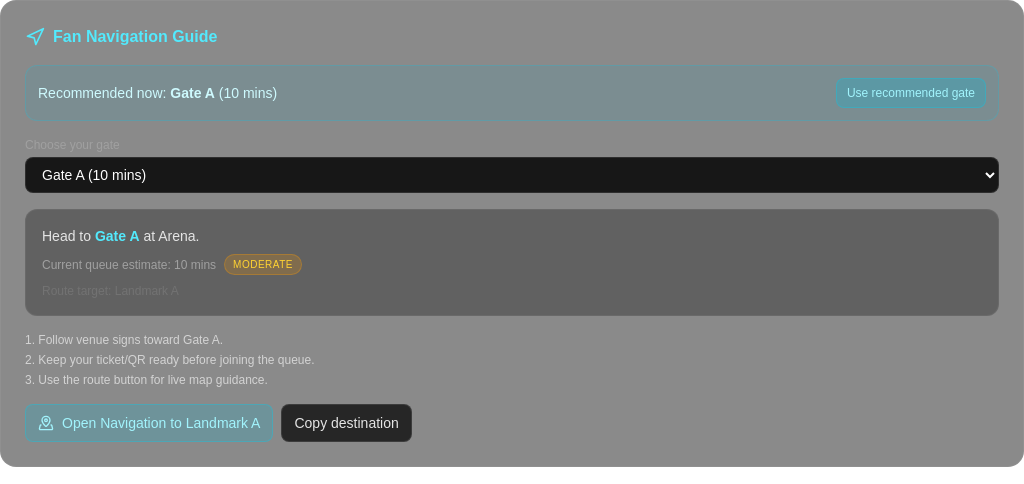
Scenario: FanGateGuide › copies destination text for quick sharing
This screenshot has width=1024, height=484.
Click the button "Copy destination".
click(347, 423)  # box [282,404,412,442]
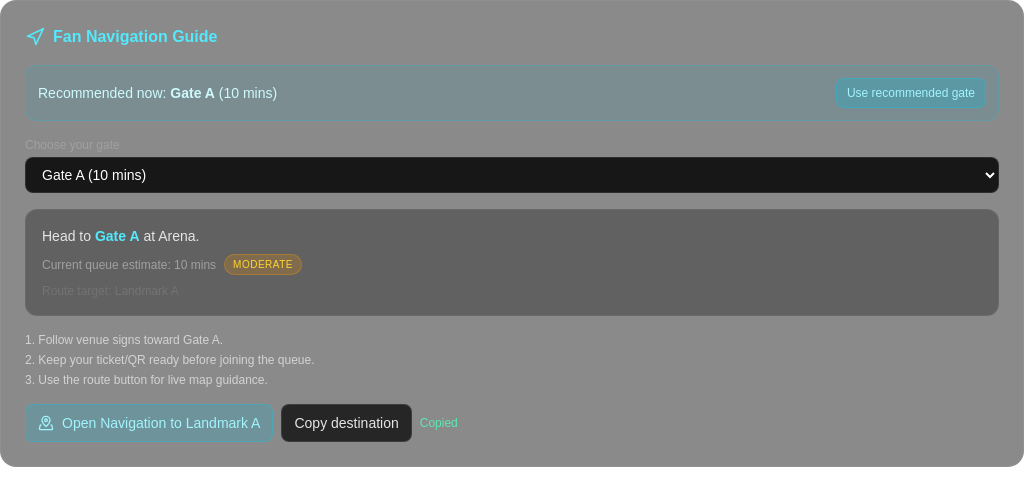
Check: the text "Copied" is shown, box [420,415,458,431]
